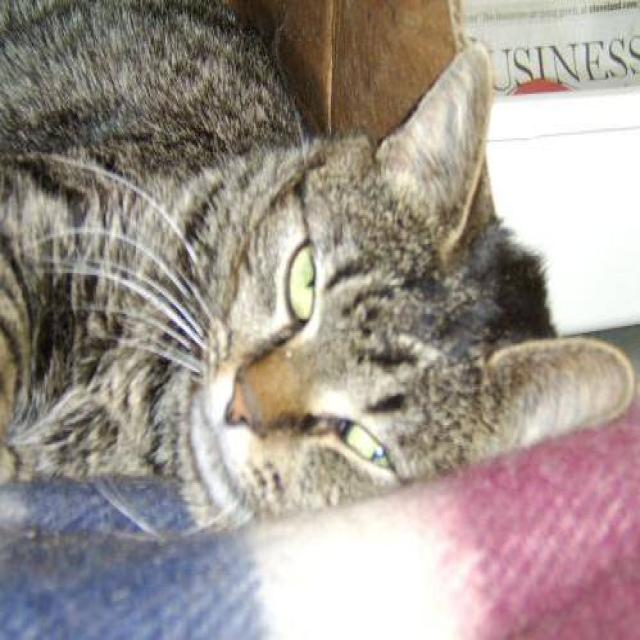cat: (0, 0, 636, 539)
